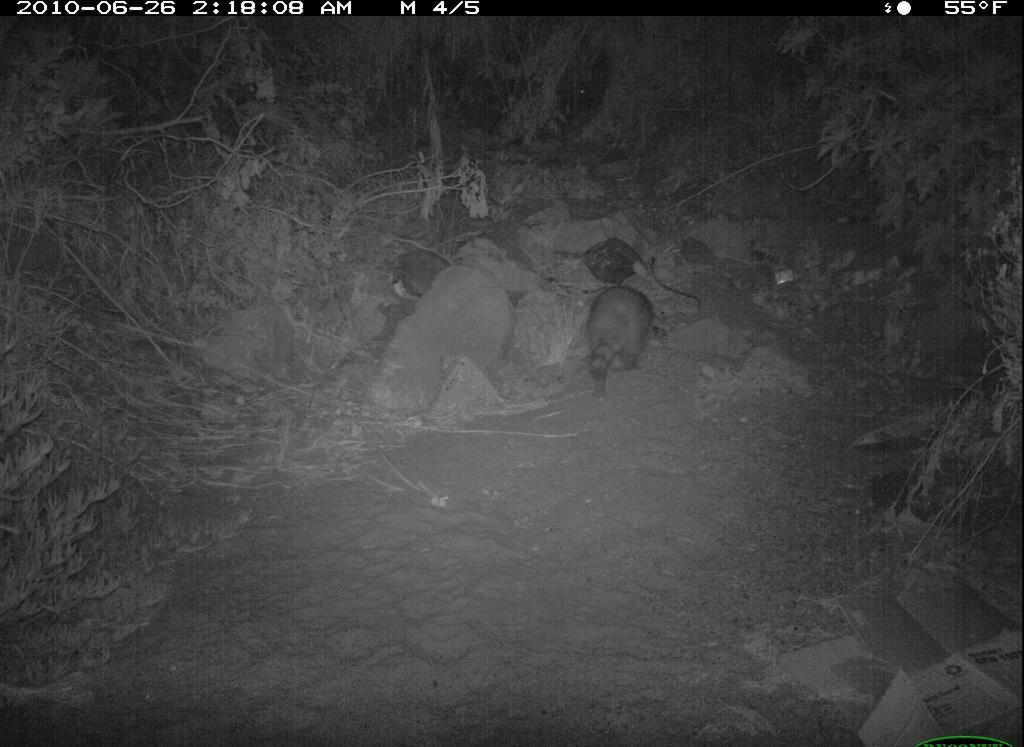raccoon: (561, 276, 679, 411)
